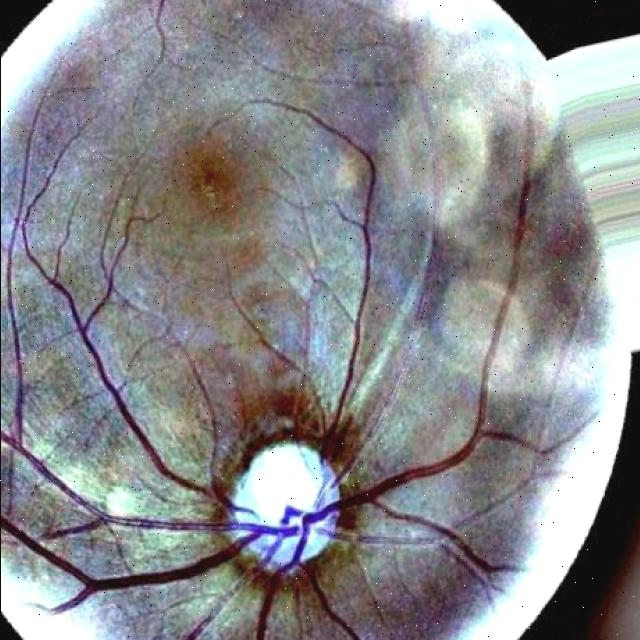Nerves: (0, 142, 526, 640), (239, 100, 374, 472)
Optic Disk: (231, 442, 338, 570)
